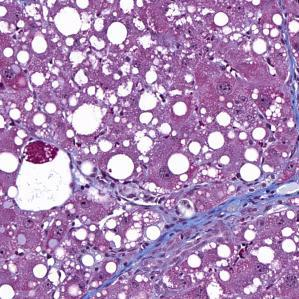fibrosis: (157, 197, 275, 243)
